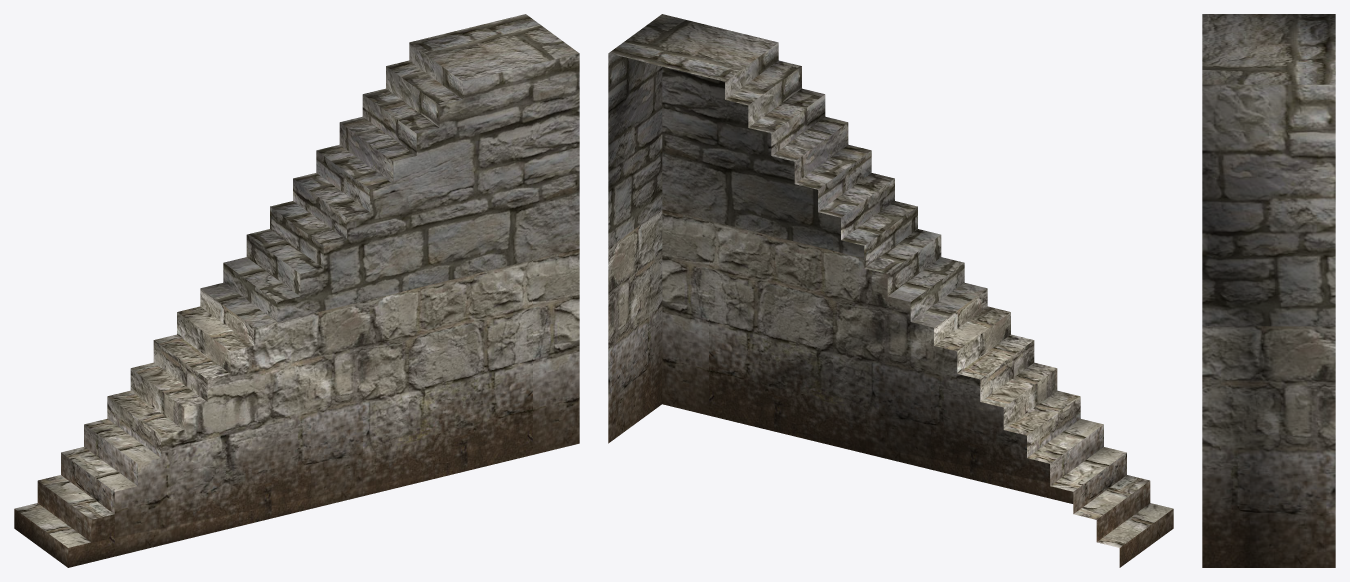
Rendered from poorlords_wall_stairs_full.FBX.
3 views of the same model, side by side, from view 1: azimuth 30°, elevation 25°; view 2: azimuth 150°, elevation 25°; view 3: azimuth 270°, elevation 25° (orthographic). The views are drawn at different scales.
Visible parts, largest first — view 1: Poorlords_wall_stairs_full_; view 2: Poorlords_wall_stairs_full_; view 3: Poorlords_wall_stairs_full_.
Part boxes in pixels (<box>): Poorlords_wall_stairs_full_: <box>14,14,579,567</box>; Poorlords_wall_stairs_full_: <box>608,14,1173,567</box>; Poorlords_wall_stairs_full_: <box>1202,14,1335,567</box>.
Bounding box in the file's own units: 703 × 128 × 513.
